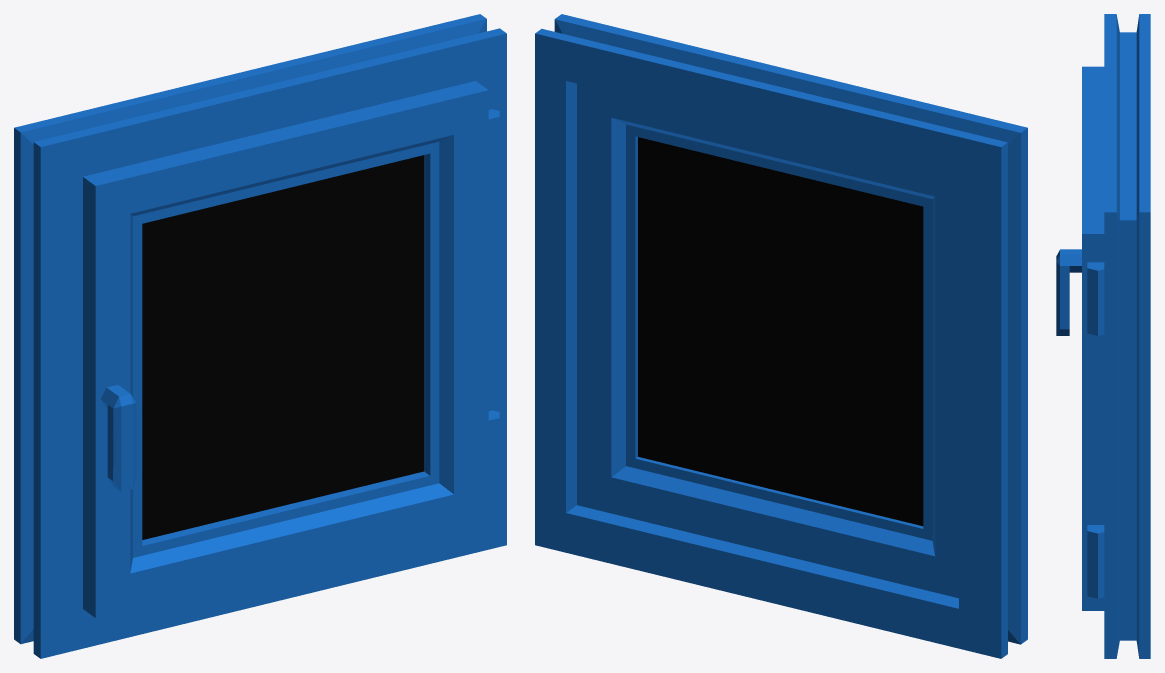
The model's file is space_window_5.fbx.
3 renders of one model, left to right at view 1: azimuth 30°, elevation 25°; view 2: azimuth 150°, elevation 25°; view 3: azimuth 270°, elevation 25°, orthographic. The views are drawn at different scales.
Parts seen in each view (by area): view 1: Cube_83; view 2: Cube_83; view 3: Cube_83.
Boxes of the visible parts, box(x1,y1,x2,y2) form: Cube_83: box(14, 14, 506, 658); Cube_83: box(535, 14, 1027, 658); Cube_83: box(1056, 14, 1150, 658).
Bounding box in the file's own units: 80.84 × 84.81 × 16.28.
